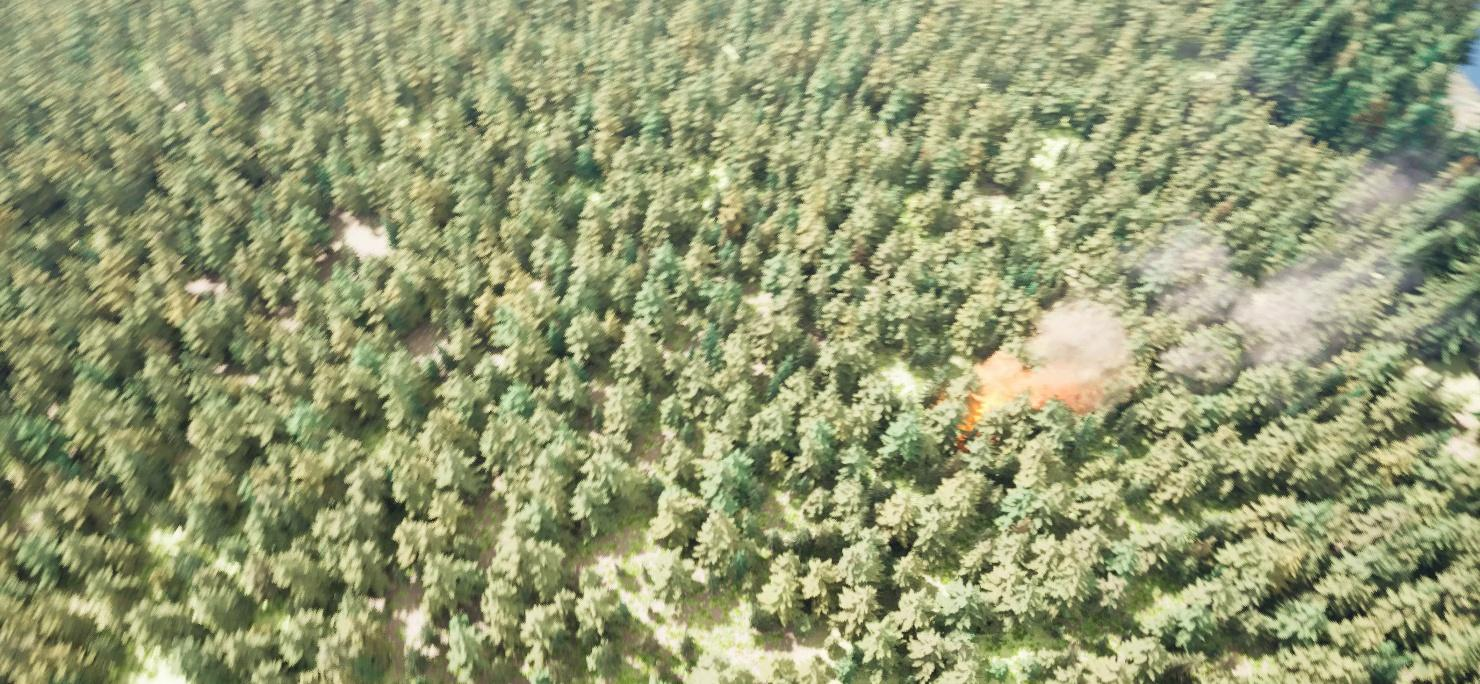smoke: (967, 152, 1413, 414)
